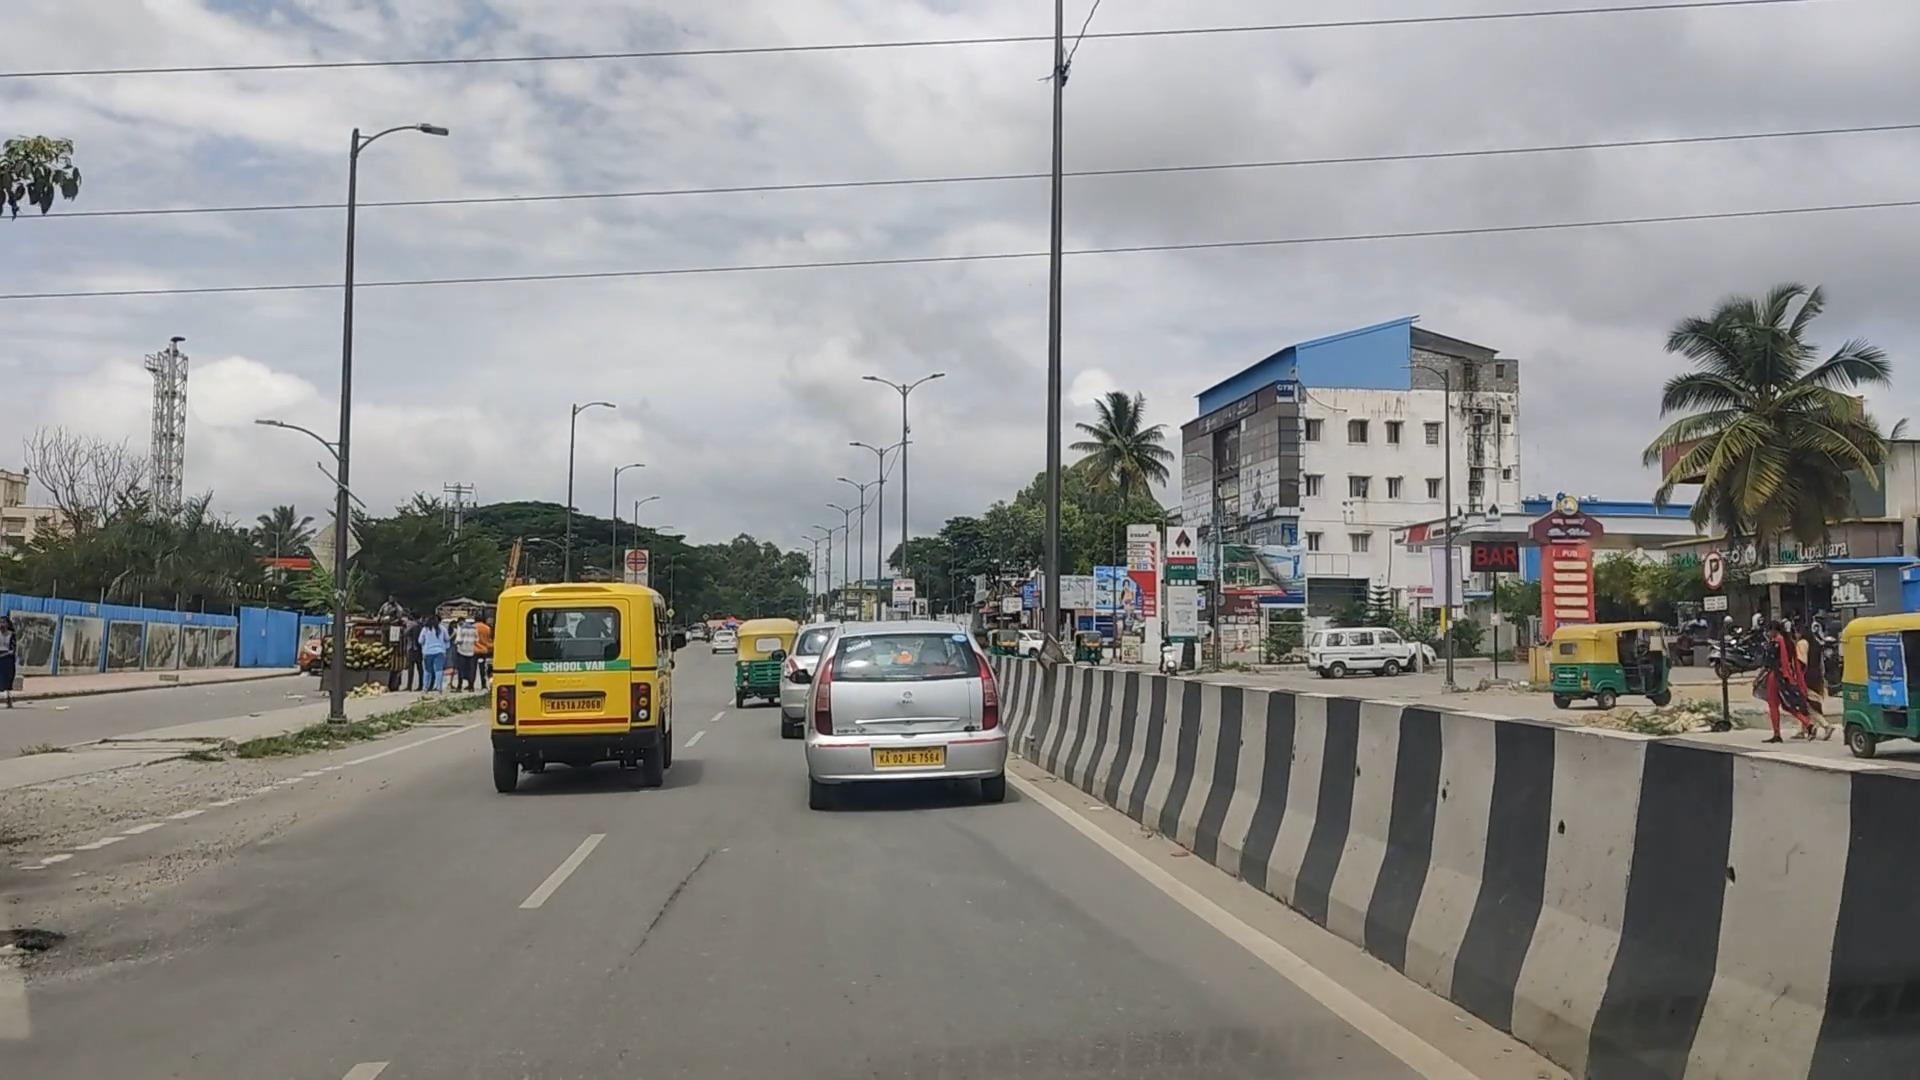LMV: (481, 580, 694, 796), (791, 620, 1005, 807)
